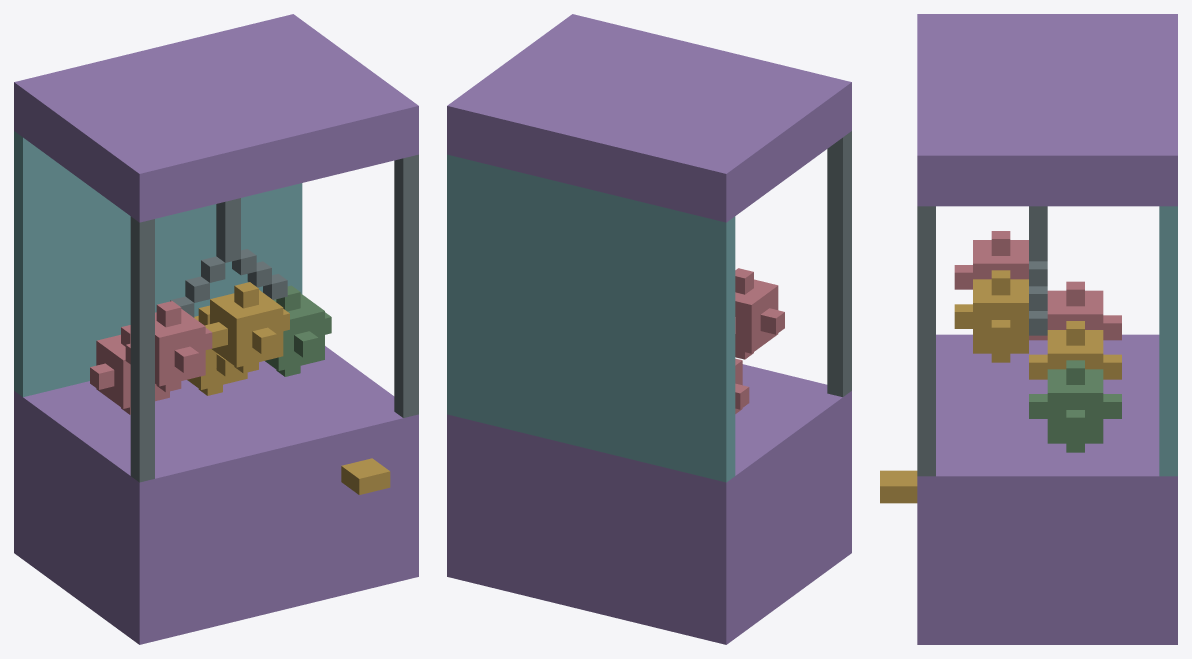
Rendered from games-20.glb.
3 renders of one model, left to right at view 1: azimuth 30°, elevation 25°; view 2: azimuth 150°, elevation 25°; view 3: azimuth 270°, elevation 25°, orthographic. The views are drawn at different scales.
Visible parts, largest first — view 1: Prize claw; view 2: Prize claw; view 3: Prize claw.
Boxes of the visible parts, box(x1,y1,x2,y2) form: Prize claw: box(14, 14, 418, 644); Prize claw: box(447, 14, 851, 644); Prize claw: box(880, 14, 1177, 644).
Size of the model in its own units: 1.44 by 2.32 by 1.28.
